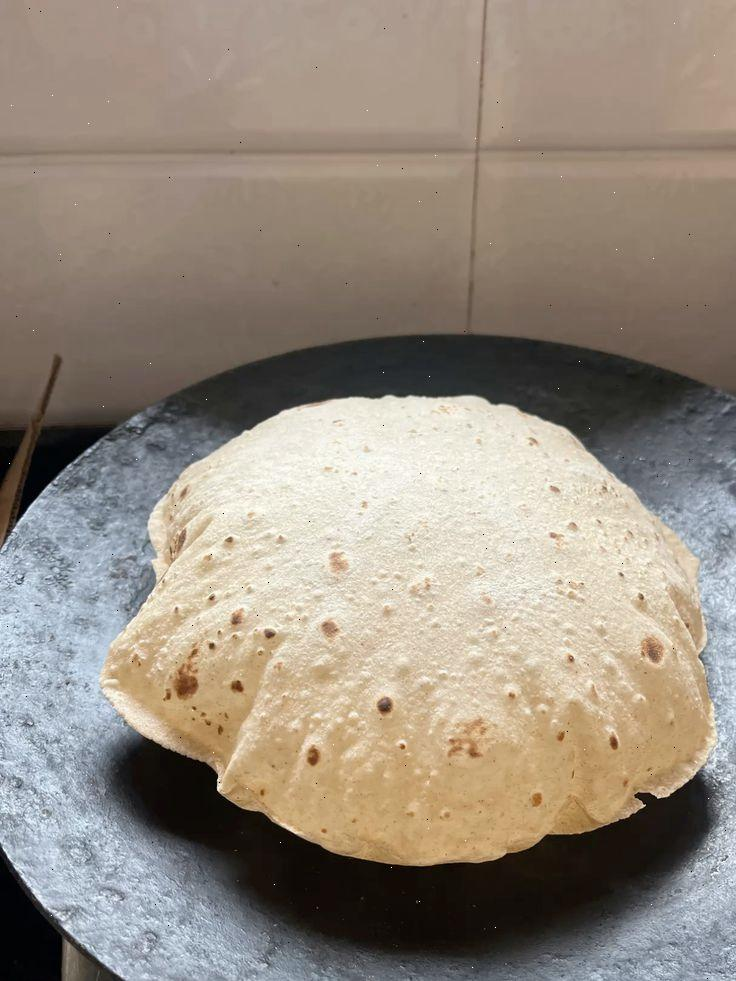roti phulka: (106, 408, 718, 862)
